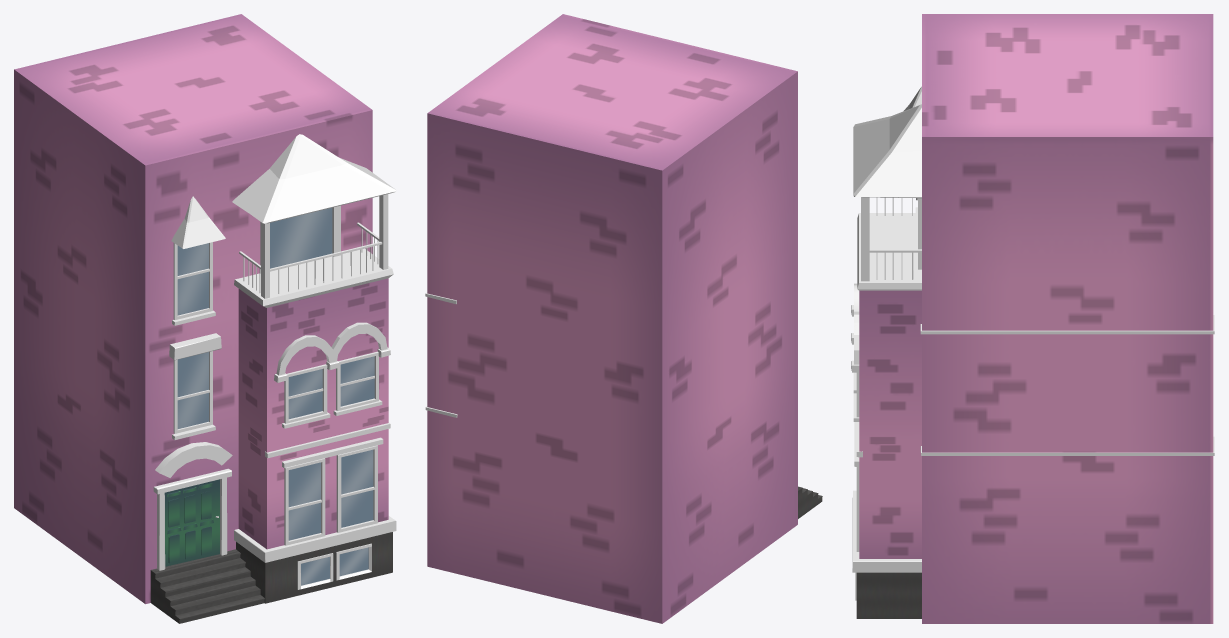
The model's file is house1-3.fbx.
3 renders of one model, left to right at view 1: azimuth 30°, elevation 25°; view 2: azimuth 150°, elevation 25°; view 3: azimuth 270°, elevation 25°, orthographic. The views are drawn at different scales.
Parts seen in each view (by area): view 1: polySurface198; view 2: polySurface198; view 3: polySurface198.
Boxes of the visible parts, x1,y1,x2,y2 form: polySurface198: [14, 14, 396, 623]; polySurface198: [425, 14, 822, 623]; polySurface198: [851, 14, 1214, 623].
Size of the model in its own units: 5.03 by 9.22 by 6.24.
